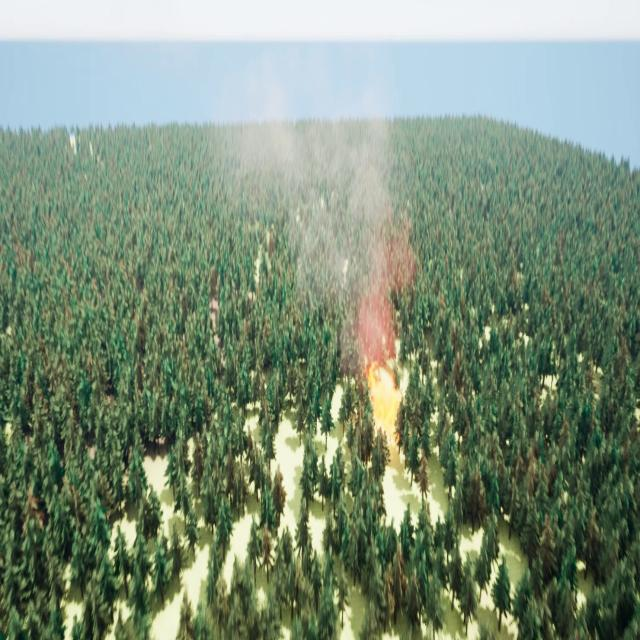fire: (367, 365, 407, 439)
smoke: (210, 62, 413, 363)
